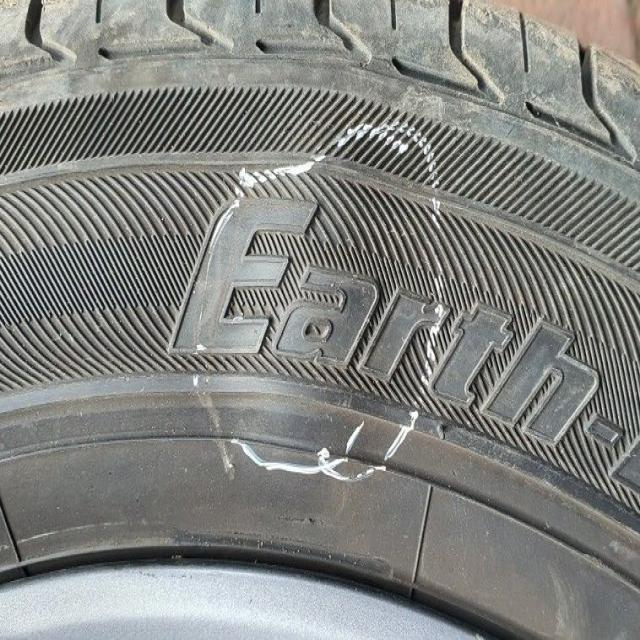Bulge: (226, 155, 394, 491)
